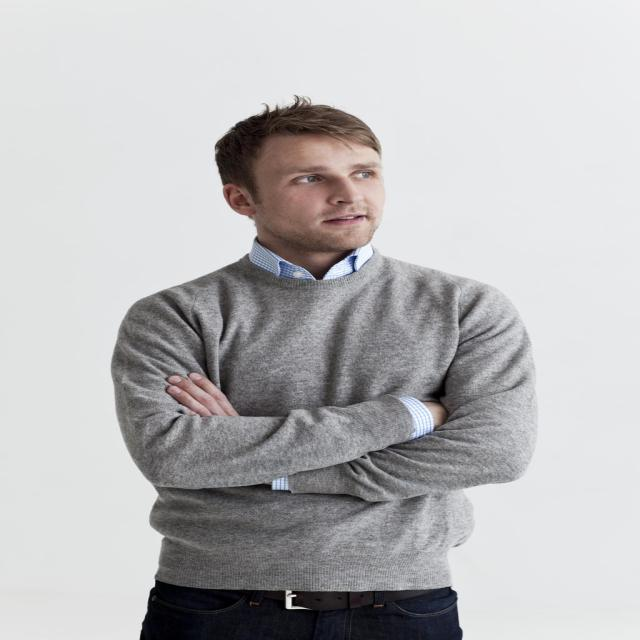Face: (249, 133, 404, 264)
